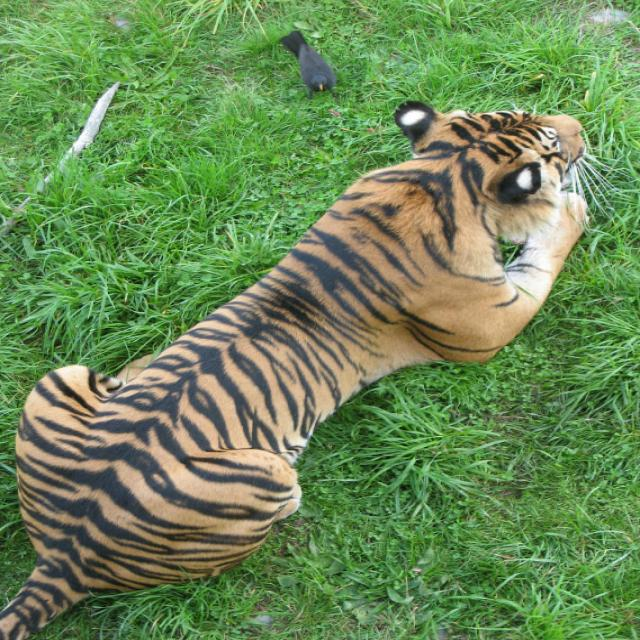Tiger: (0, 96, 614, 637)
